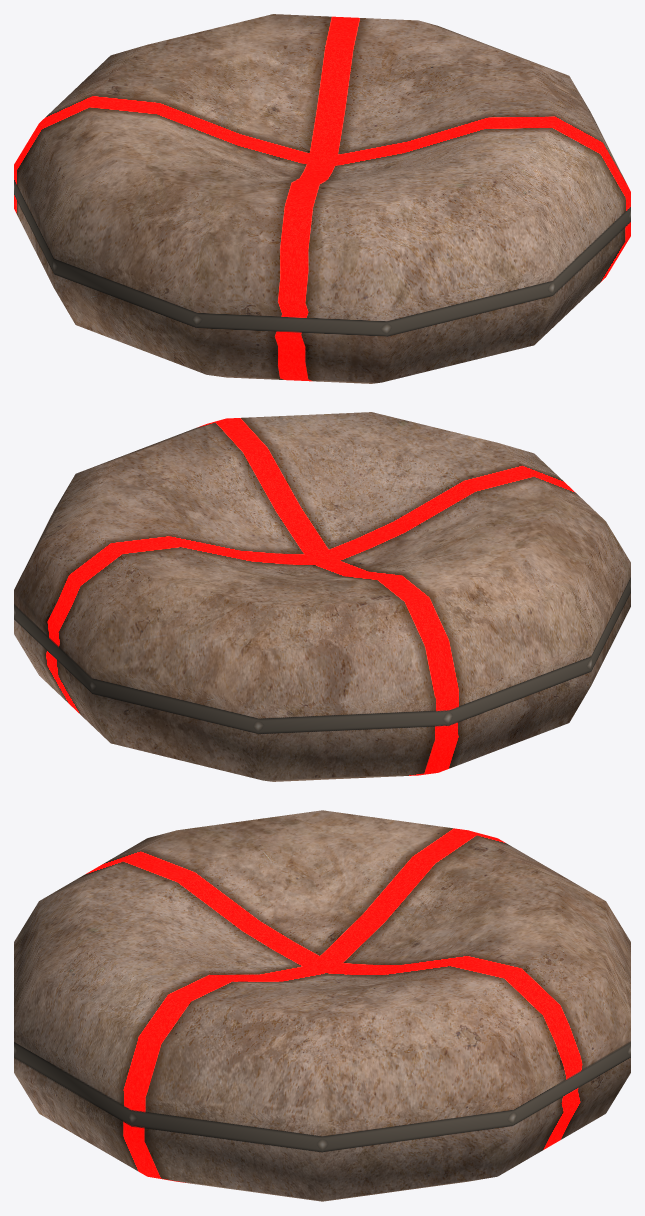
Rendered from rbc.fbx.
3 views of the same model, one above another, from view 1: azimuth 30°, elevation 25°; view 2: azimuth 150°, elevation 25°; view 3: azimuth 270°, elevation 25° (orthographic). The views are drawn at different scales.
Visible parts, largest first — view 1: pSphere1; view 2: pSphere1; view 3: pSphere1.
Part boxes in pixels (x1,y1,x2,y2): pSphere1: (14,14,630,383); pSphere1: (14,412,630,781); pSphere1: (14,810,630,1201).
Size of the model in its own units: 18.14 by 5.62 by 17.26.
